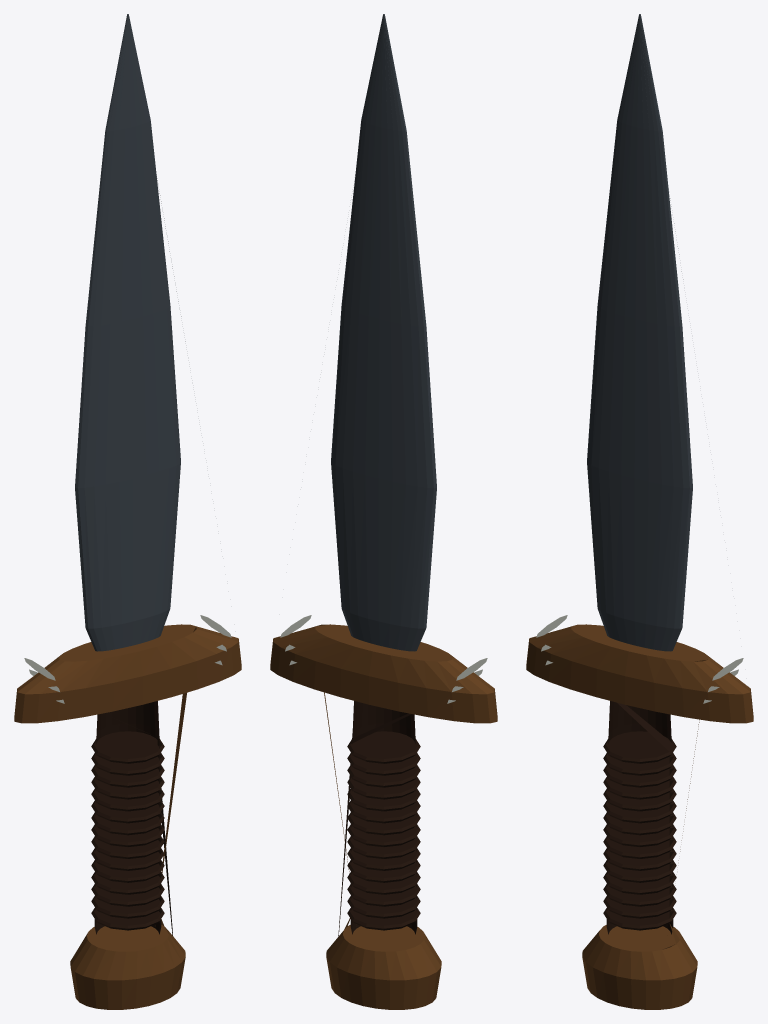
3 views of the same model, side by side, from view 1: azimuth 30°, elevation 25°; view 2: azimuth 150°, elevation 25°; view 3: azimuth 330°, elevation 25° (orthographic).
Visible parts, largest first — view 1: VeilRitualDagger; view 2: VeilRitualDagger; view 3: VeilRitualDagger.
Boxes of the visible parts, x1,y1,x2,y2 form: VeilRitualDagger: (14,14,241,1009); VeilRitualDagger: (270,14,497,1009); VeilRitualDagger: (526,14,753,1009).
Size of the model in its own units: 0.15 by 0.615 by 0.054.
